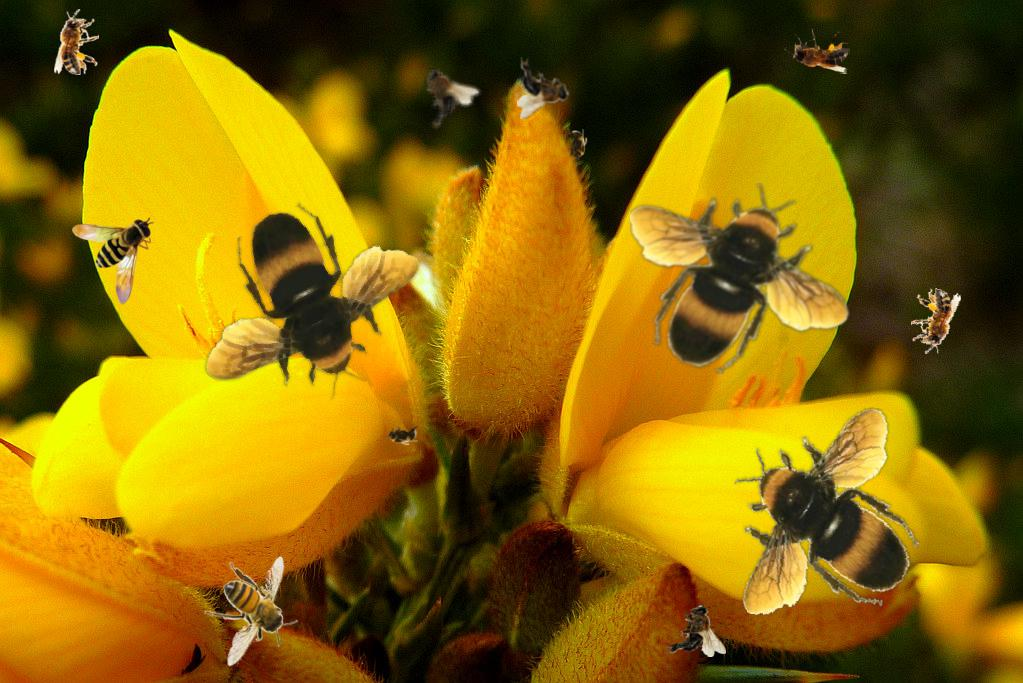Bee: (160, 164, 444, 455), (718, 391, 936, 634), (630, 183, 850, 374), (204, 556, 298, 667), (72, 217, 154, 305), (401, 53, 484, 135), (906, 285, 962, 358), (664, 604, 726, 657), (517, 57, 570, 119), (54, 9, 99, 75), (784, 29, 850, 74), (382, 424, 422, 446), (566, 125, 588, 165)
